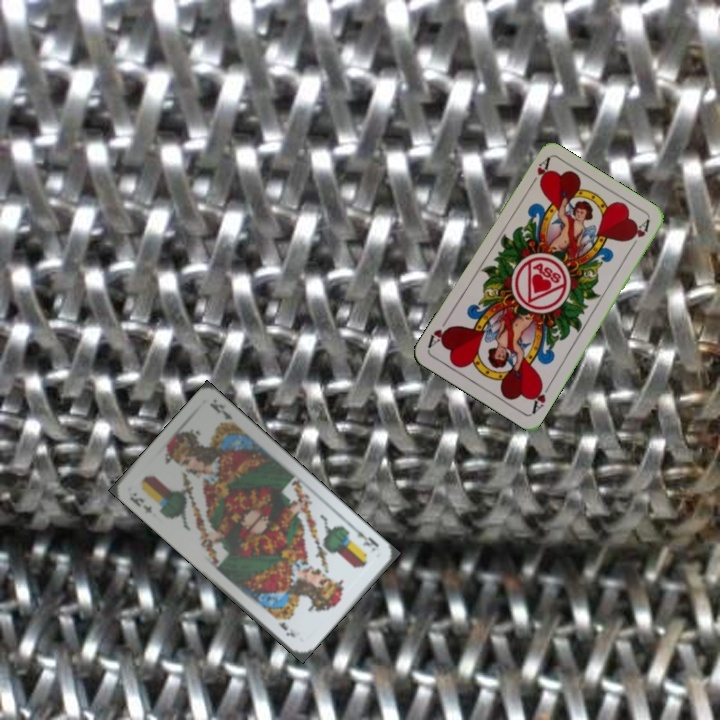EK: (348, 522, 381, 555), (125, 488, 155, 516)
HA: (525, 154, 552, 192), (528, 379, 554, 416)
